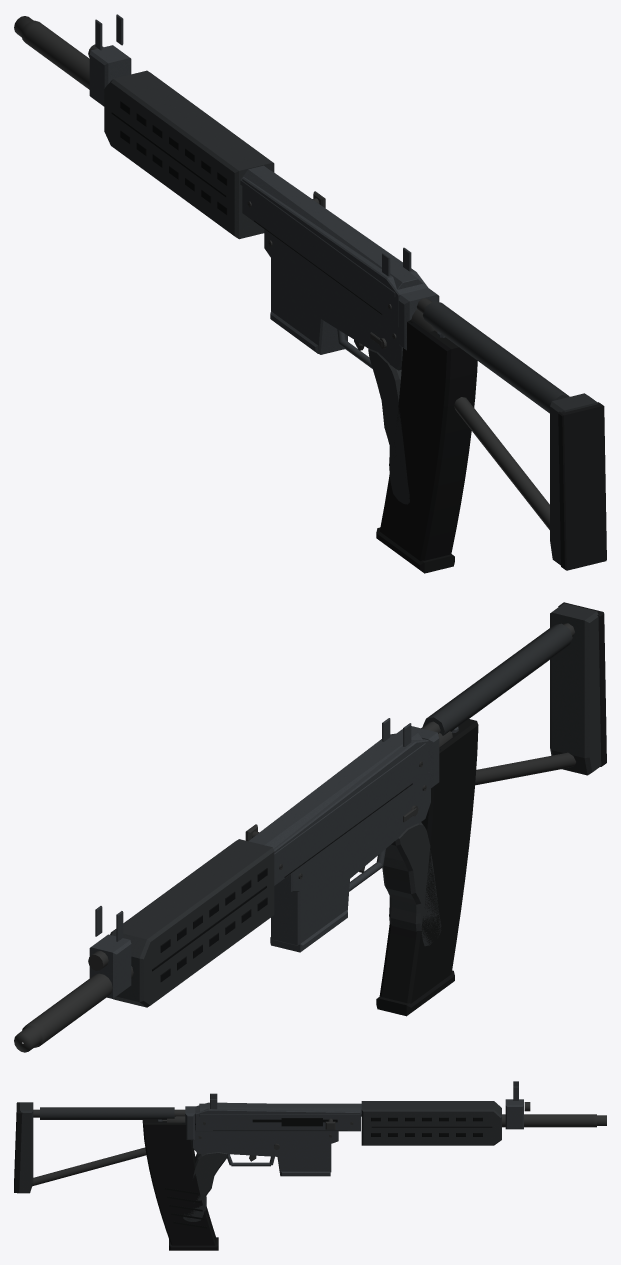
File: weapon-35-U7pf1apR.glb
3 renders of one model, top to bottom at view 1: azimuth 30°, elevation 25°; view 2: azimuth 150°, elevation 25°; view 3: azimuth 270°, elevation 25°, orthographic. The views are drawn at different scales.
Visible parts, largest first — view 1: salient_weapon_body, salient_weapon_magazine; view 2: salient_weapon_body, salient_weapon_magazine; view 3: salient_weapon_body, salient_weapon_magazine.
Part boxes in pixels (bbox=[...]): salient_weapon_body: bbox=[14, 14, 606, 570]; salient_weapon_magazine: bbox=[376, 319, 477, 573]; salient_weapon_body: bbox=[14, 602, 606, 1052]; salient_weapon_magazine: bbox=[376, 719, 478, 1016]; salient_weapon_body: bbox=[14, 1081, 606, 1221]; salient_weapon_magazine: bbox=[142, 1120, 218, 1250].
Bounding box in the file's own units: 0.049 × 0.2535 × 0.8368.
11 materials, 3 textured.
